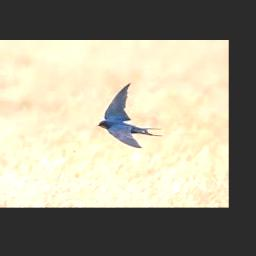Swallow: (98, 82, 162, 147)
